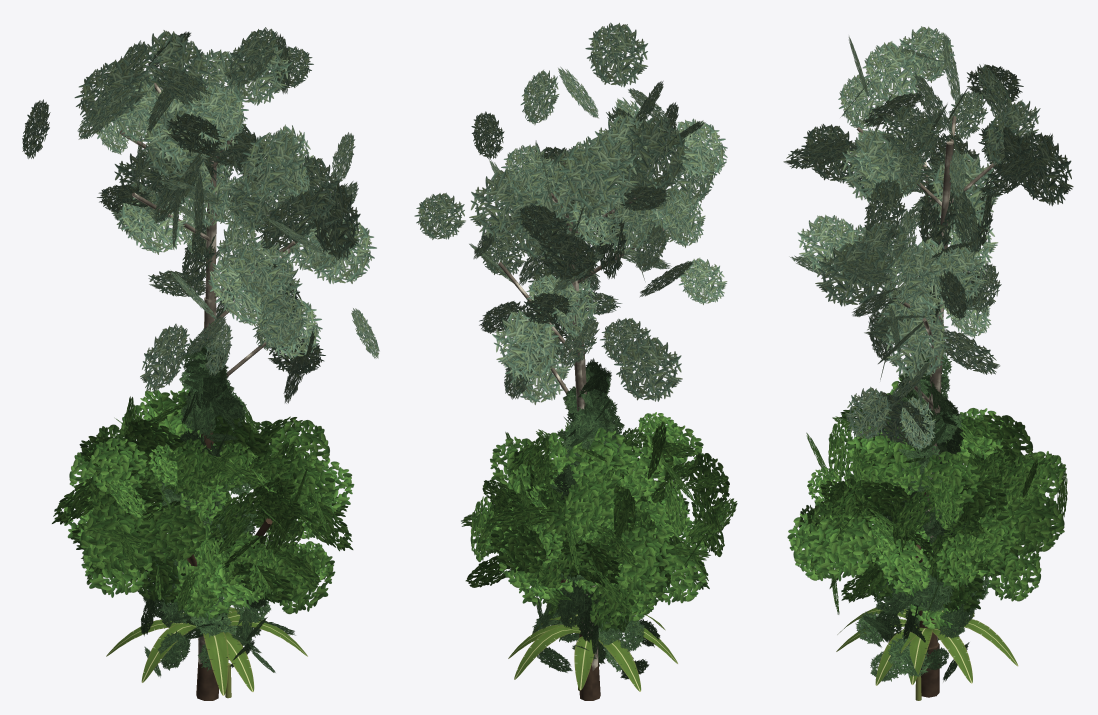
File: trees.glb
3 views of the same model, side by side, from view 1: azimuth 30°, elevation 25°; view 2: azimuth 150°, elevation 25°; view 3: azimuth 270°, elevation 25° (orthographic). The views are drawn at different scales.
Parts seen in each view (by area): view 1: euc_leaves, broad_leaves, cypress_leaves, banana_leaves, euc_bark, broad_bark; view 2: euc_leaves, broad_leaves, cypress_leaves, banana_leaves, euc_bark, broad_bark; view 3: euc_leaves, broad_leaves, cypress_leaves, banana_leaves, euc_bark, broad_bark.
Part boxes in pixels (box(x1,y1,x2,y2)): euc_leaves: box(22, 27, 379, 403); broad_leaves: box(52, 385, 354, 620); cypress_leaves: box(140, 338, 295, 677); banana_leaves: box(106, 607, 307, 695); euc_bark: box(119, 83, 298, 664); broad_bark: box(187, 518, 272, 700); euc_leaves: box(414, 22, 727, 404); broad_leaves: box(461, 412, 737, 632); cypress_leaves: box(532, 358, 660, 679); banana_leaves: box(508, 611, 677, 691); euc_bark: box(498, 149, 663, 670); broad_bark: box(537, 520, 664, 700); euc_leaves: box(783, 26, 1073, 450); broad_leaves: box(787, 377, 1067, 629); cypress_leaves: box(855, 347, 989, 681); banana_leaves: box(836, 605, 1018, 685); euc_bark: box(856, 116, 995, 642); broad_bark: box(872, 519, 972, 697).
Bounding box in the file's own units: 10.4 × 21.39 × 9.09.
7 materials, 6 textured.
